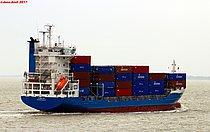Ship: (17, 16, 194, 117)
